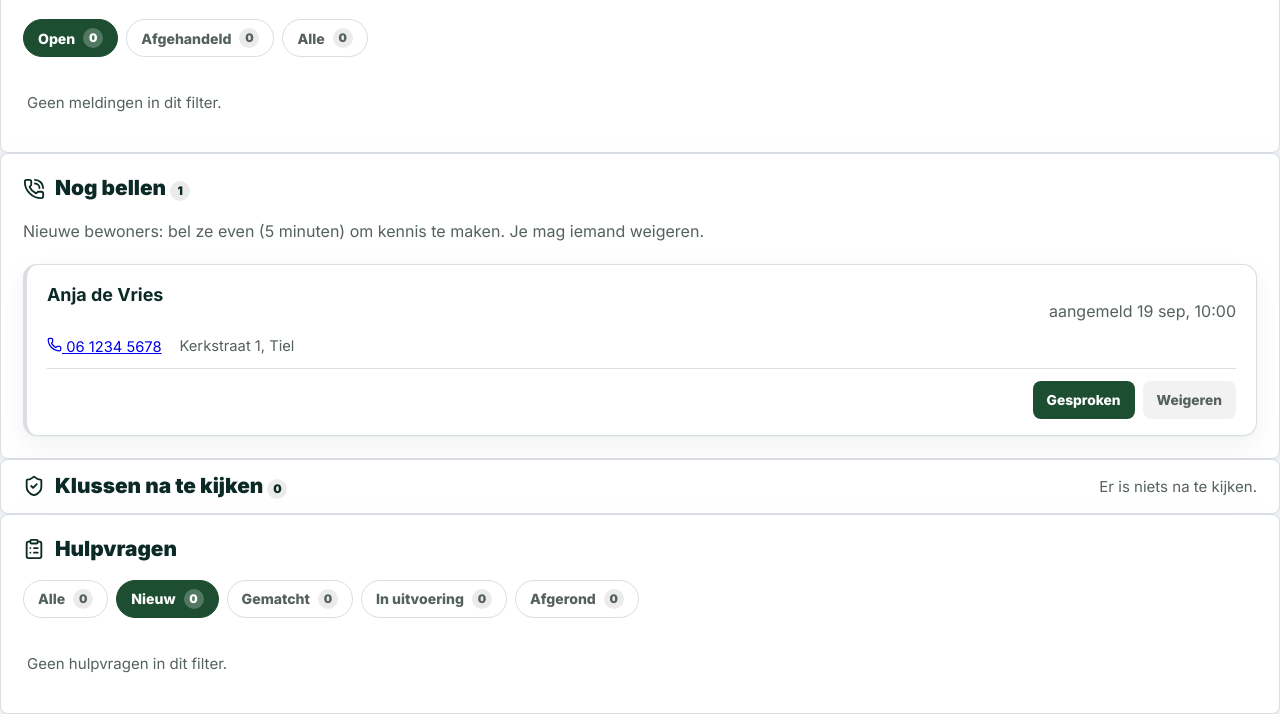
Scenario: B11 meldkamer: nog bellen › weigeren vraagt een notitie en meldt hoeveel klussen geannuleerd zijn
(page scrolled)
Click the button "Weigeren" at (1189, 400), box x1=1142 y1=381 x2=1236 y2=419
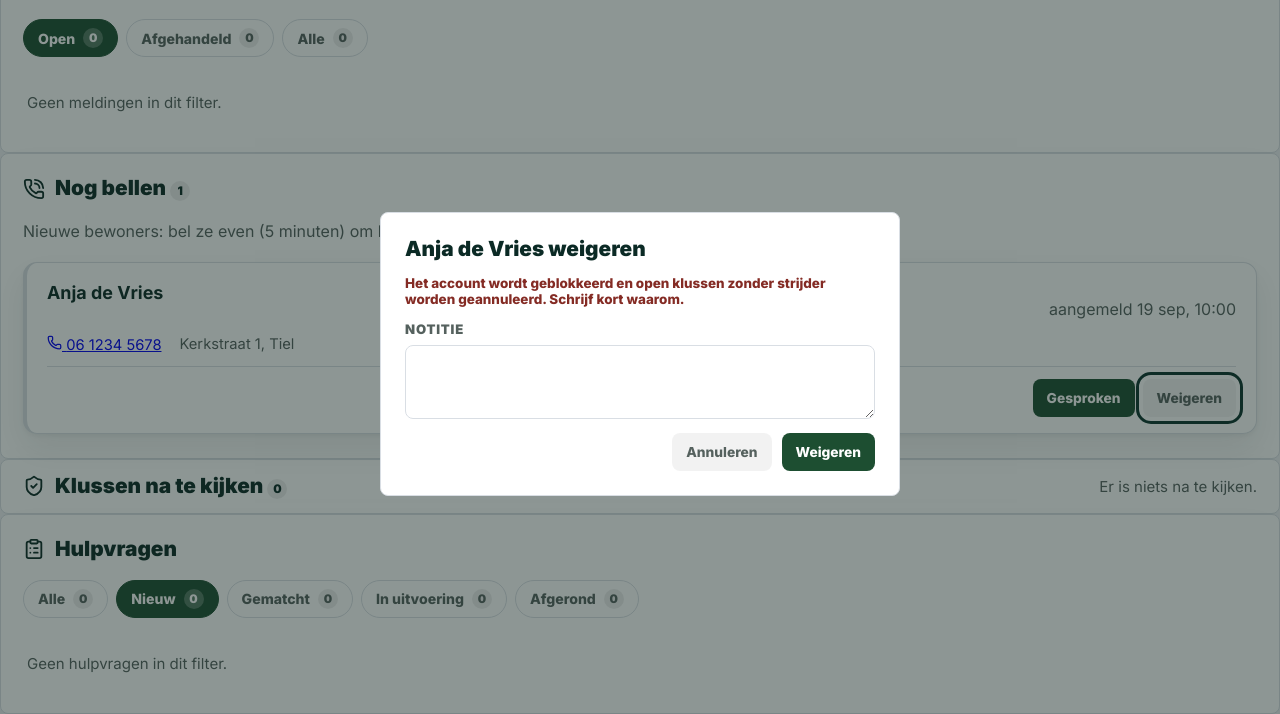
Now the text "geblokkeerd" is shown, box x1=405 y1=276 x2=826 y2=308
Now the button "Weigeren" is disabled, box x1=782 y1=434 x2=875 y2=472
Type "Wilde zorgtaken" into the text box labelled "Notitie" at (640, 382), box x1=405 y1=346 x2=875 y2=420
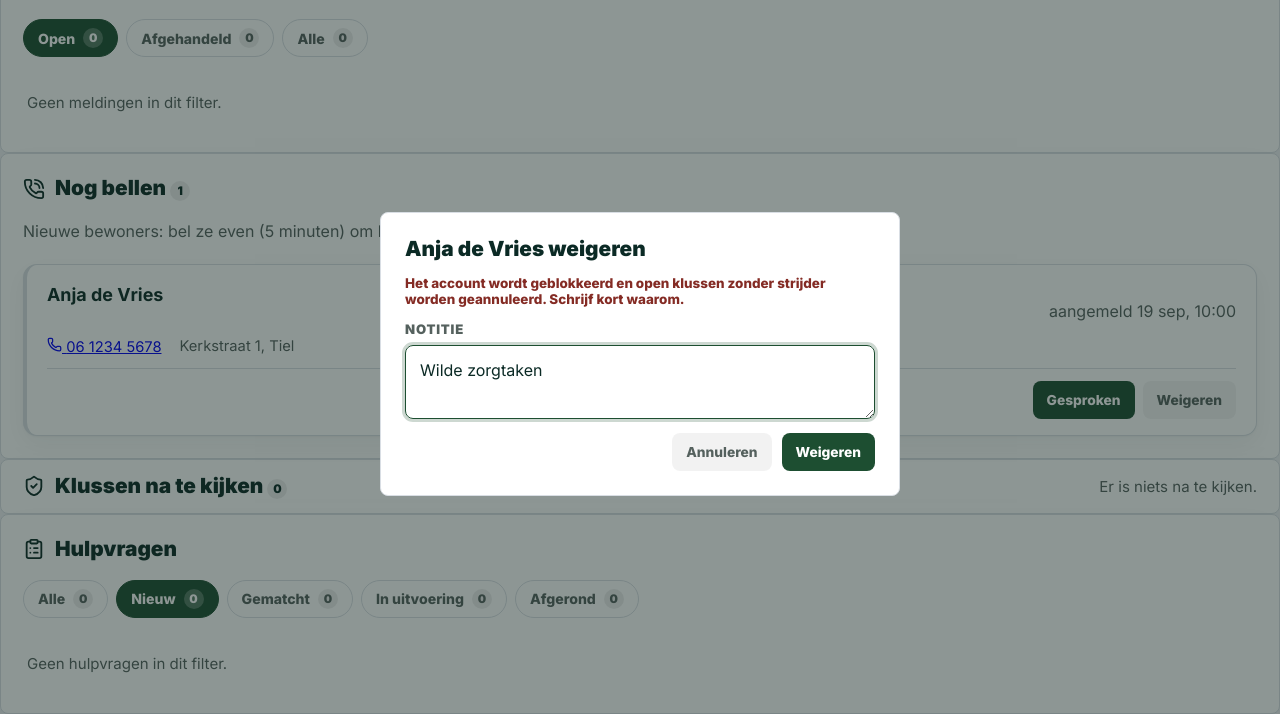
Click the button "Weigeren" at (828, 452), box x1=782 y1=434 x2=875 y2=472
(page scrolled)
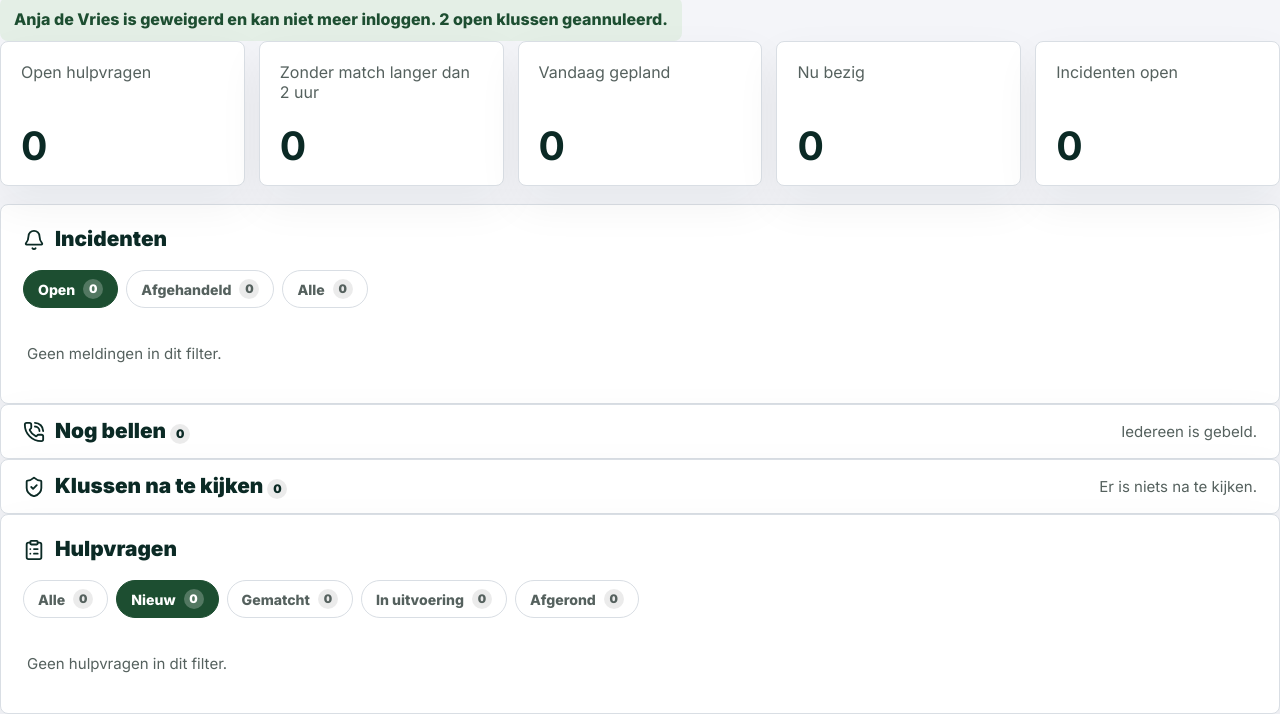
Now the text "2 open klussen geannuleerd" is shown, box x1=14 y1=9 x2=668 y2=29
